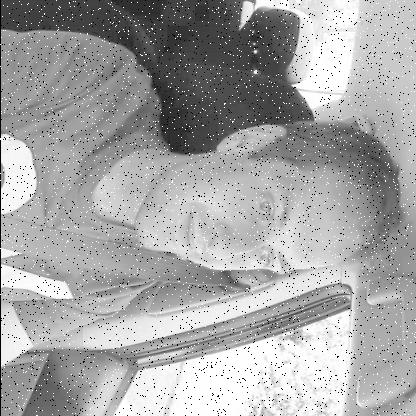seatbelt: (0, 112, 401, 292)
